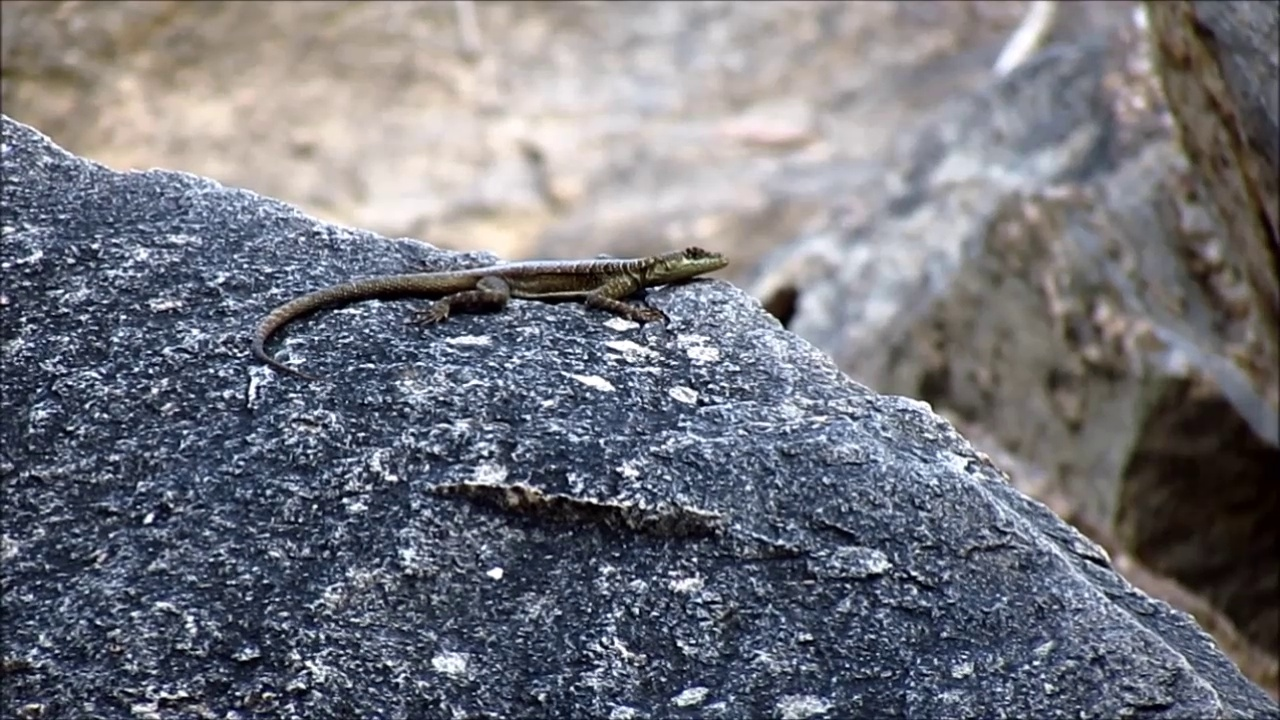body: (251, 254, 660, 381)
head: (646, 245, 729, 284)
